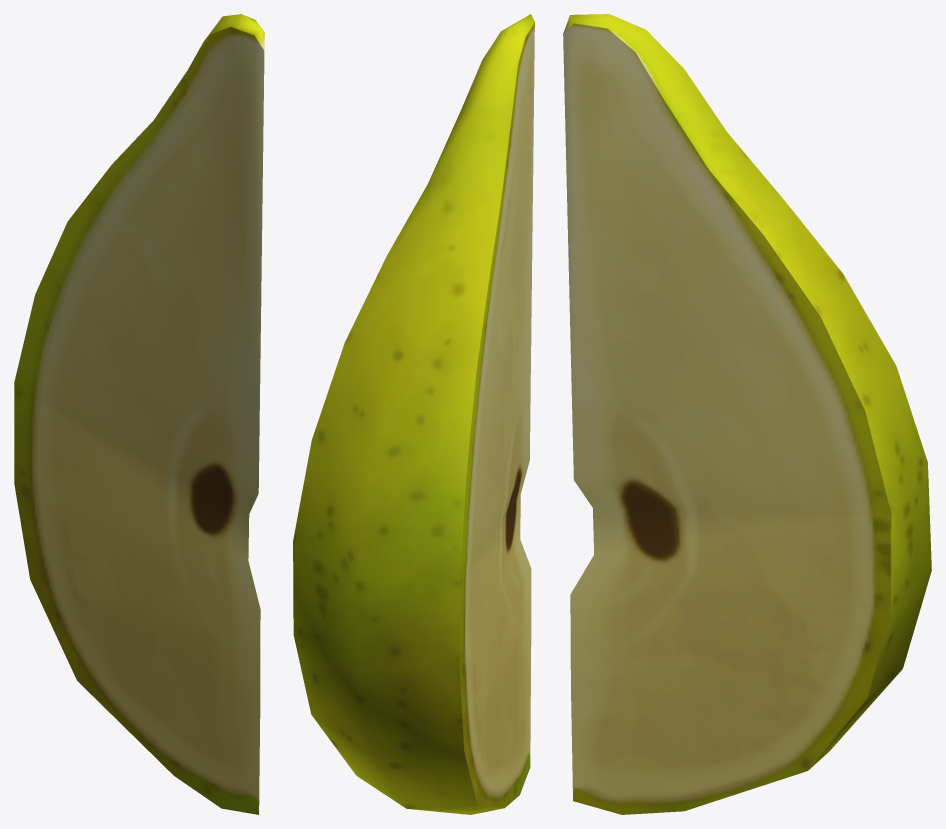
File: SM_PearGreenSlice.fbx
3 views of the same model, side by side, from view 1: azimuth 30°, elevation 25°; view 2: azimuth 150°, elevation 25°; view 3: azimuth 270°, elevation 25° (orthographic). The views are drawn at different scales.
Visible parts, largest first — view 1: SM_PearGreenSlice; view 2: SM_PearGreenSlice; view 3: SM_PearGreenSlice.
Boxes of the visible parts, box(x1,y1,x2,y2) form: SM_PearGreenSlice: box(14, 14, 264, 814); SM_PearGreenSlice: box(293, 14, 534, 814); SM_PearGreenSlice: box(563, 14, 931, 814).
Bounding box in the file's own units: 3.5 × 15.26 × 6.39.
